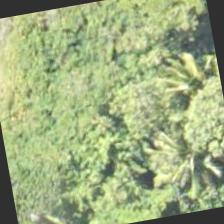Kelapa_Sawit: (131, 108, 223, 213), (148, 34, 223, 135)
